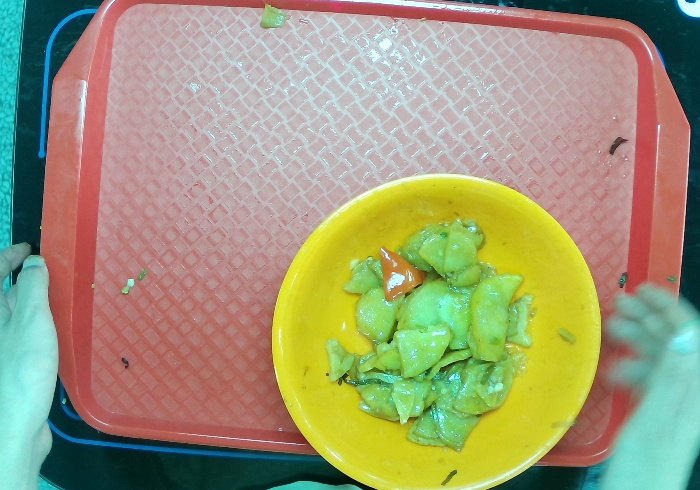YKMZ-Ju_Se_Tang_Wan: (263, 165, 605, 490)
